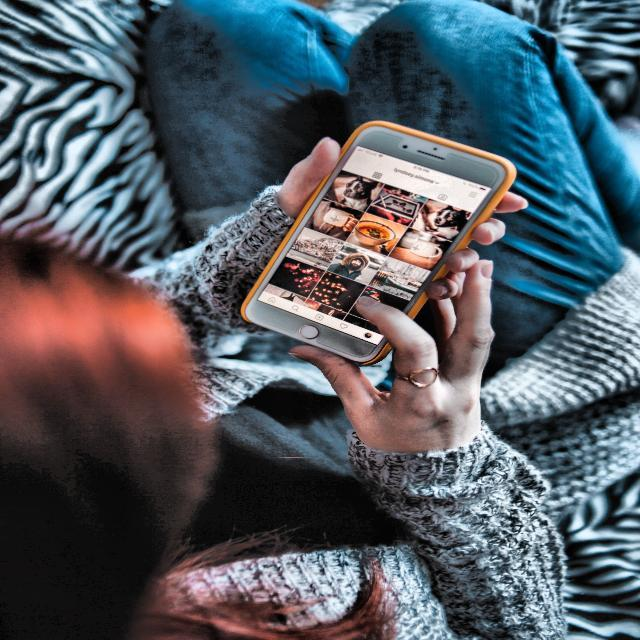Phone: (242, 120, 519, 368)
